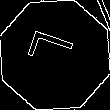L_E: (26, 32, 84, 78)
